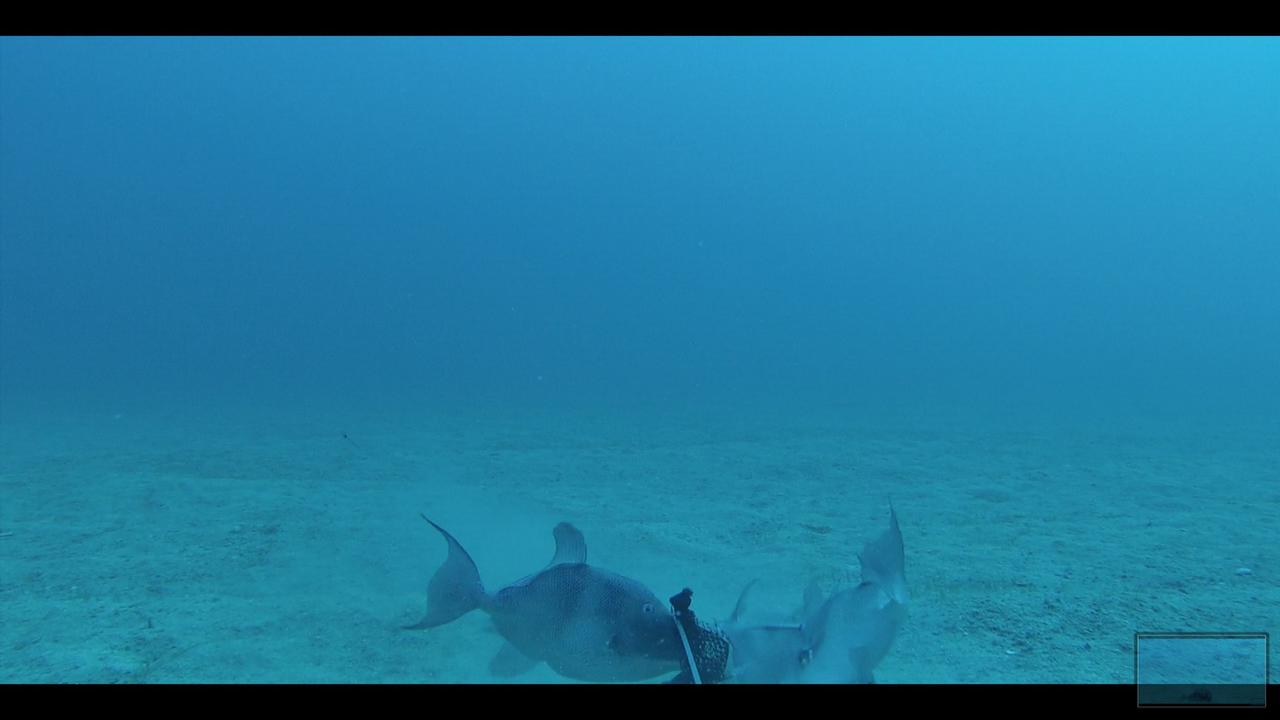balistes: (398, 511, 689, 680), (786, 492, 912, 678)
